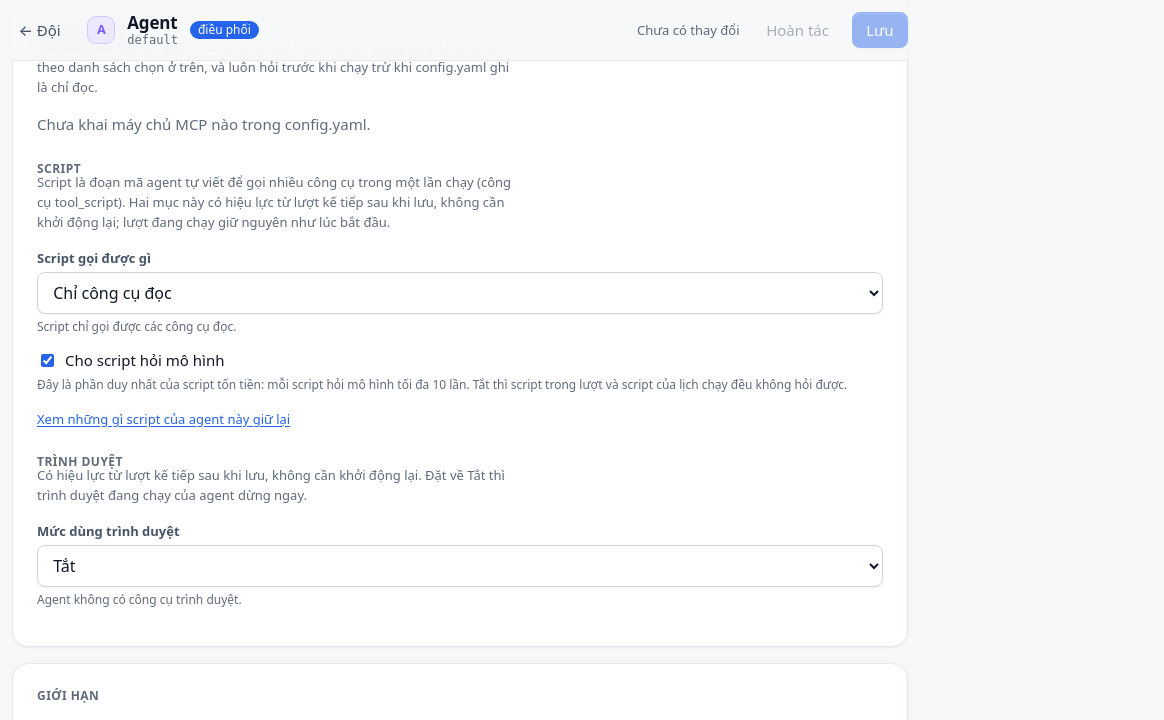
a script setting chosen and chosen back, on an agent whose crew reports none › leaves nothing to save for whether scripts may ask the model
(page scrolled)
Click the checkbox labelled "Cho script hỏi mô hình": (48, 360) [41,354,54,367]
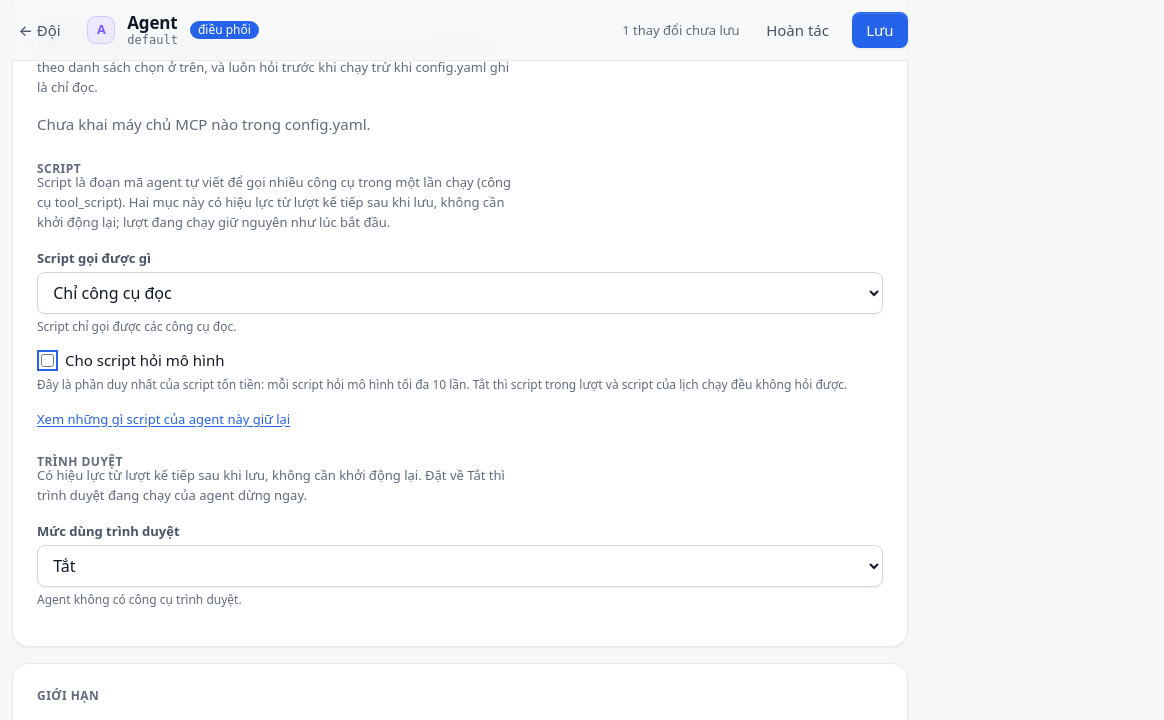
Now the checkbox labelled "Cho script hỏi mô hình" is not checked
Click the checkbox labelled "Cho script hỏi mô hình": (48, 360) [41,354,54,367]
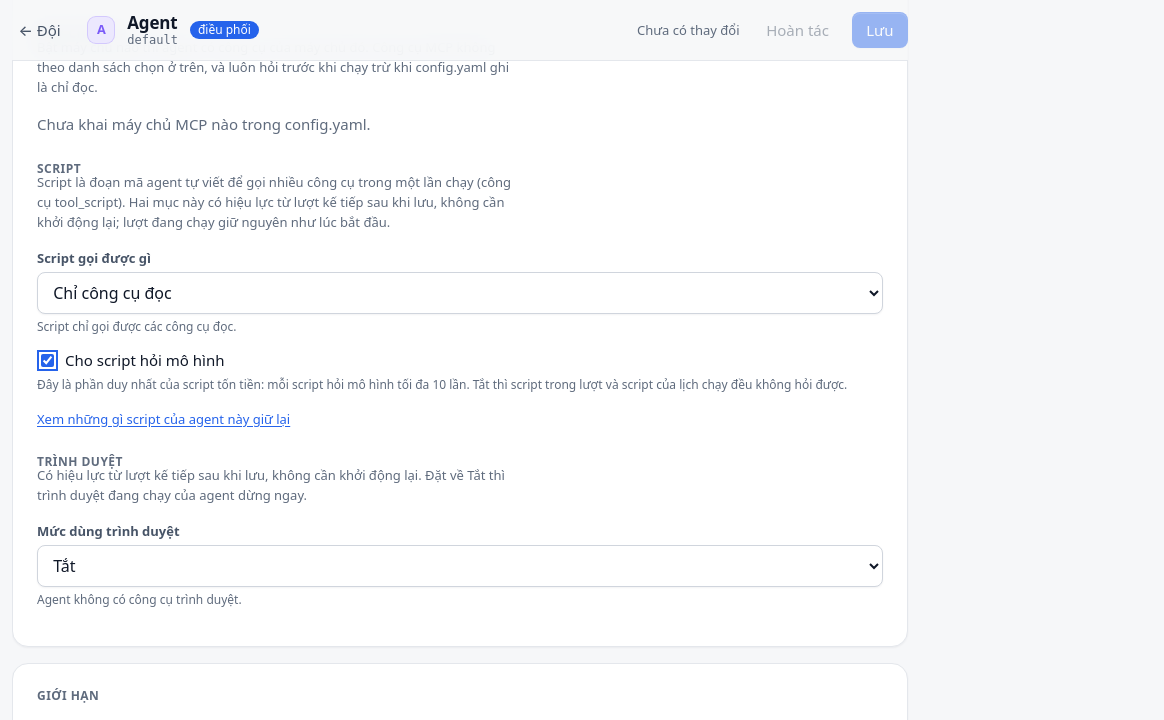
Now the checkbox labelled "Cho script hỏi mô hình" is checked, box [41,354,54,367]
Now the text "Chưa có thay đổi" is shown, box [637,20,740,40]
Now the button "Lưu" is disabled, box [852,12,908,48]
